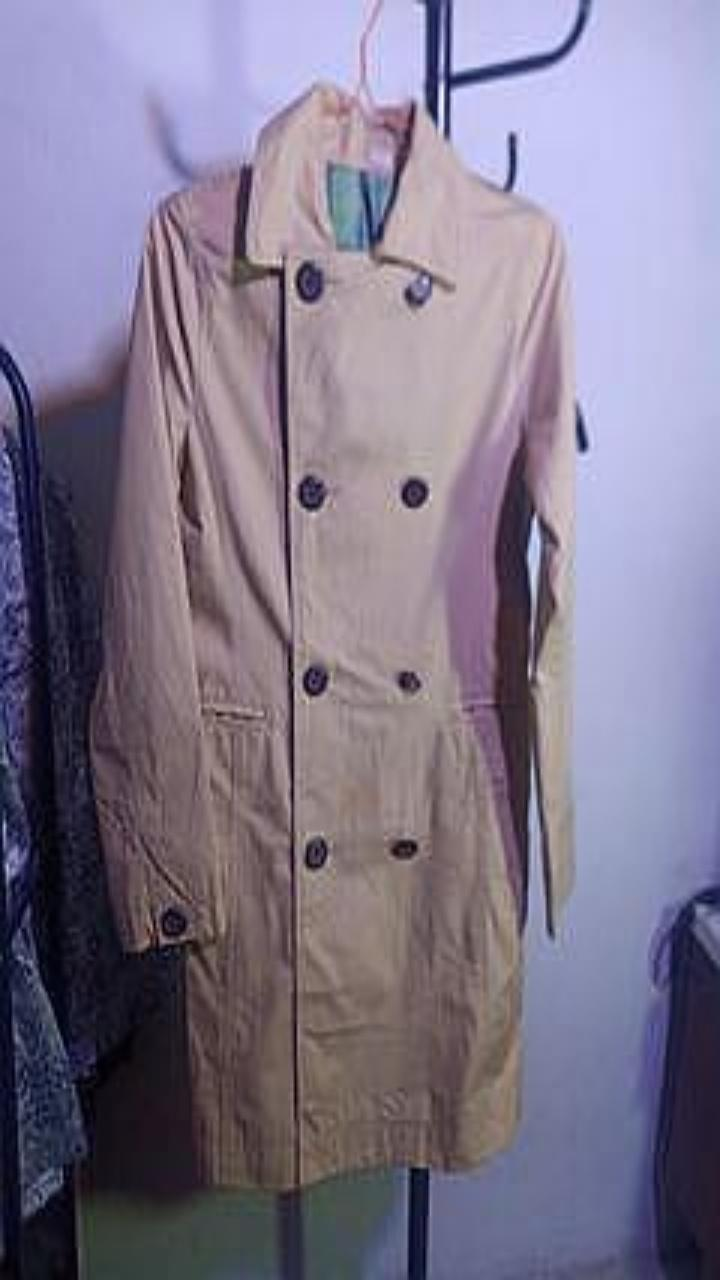Coat: (91, 85, 574, 1187)
